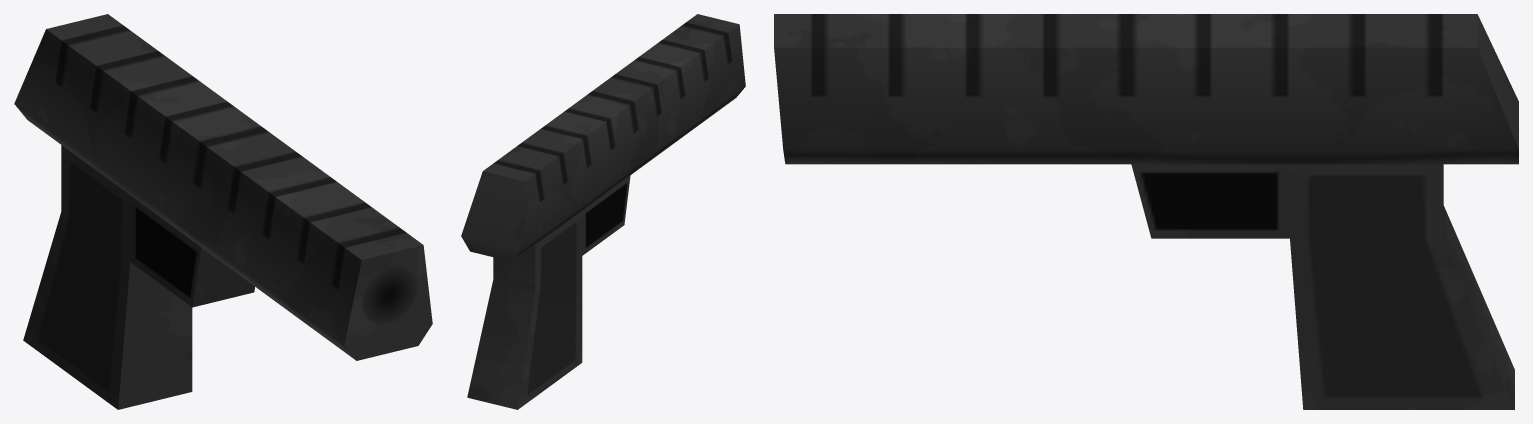
File: WeaponAgentPistolModel.fbx
3 views of the same model, side by side, from view 1: azimuth 30°, elevation 25°; view 2: azimuth 150°, elevation 25°; view 3: azimuth 270°, elevation 25° (orthographic). The views are drawn at different scales.
Parts seen in each view (by area): view 1: WeaponAgentPistolModel; view 2: WeaponAgentPistolModel; view 3: WeaponAgentPistolModel.
Boxes of the visible parts, box(x1,y1,x2,y2) form: WeaponAgentPistolModel: box(14, 14, 432, 409); WeaponAgentPistolModel: box(461, 14, 745, 409); WeaponAgentPistolModel: box(774, 14, 1518, 409).
Bounding box in the file's own units: 0.0714 × 0.2485 × 0.4674.
1 material, 1 textured.
